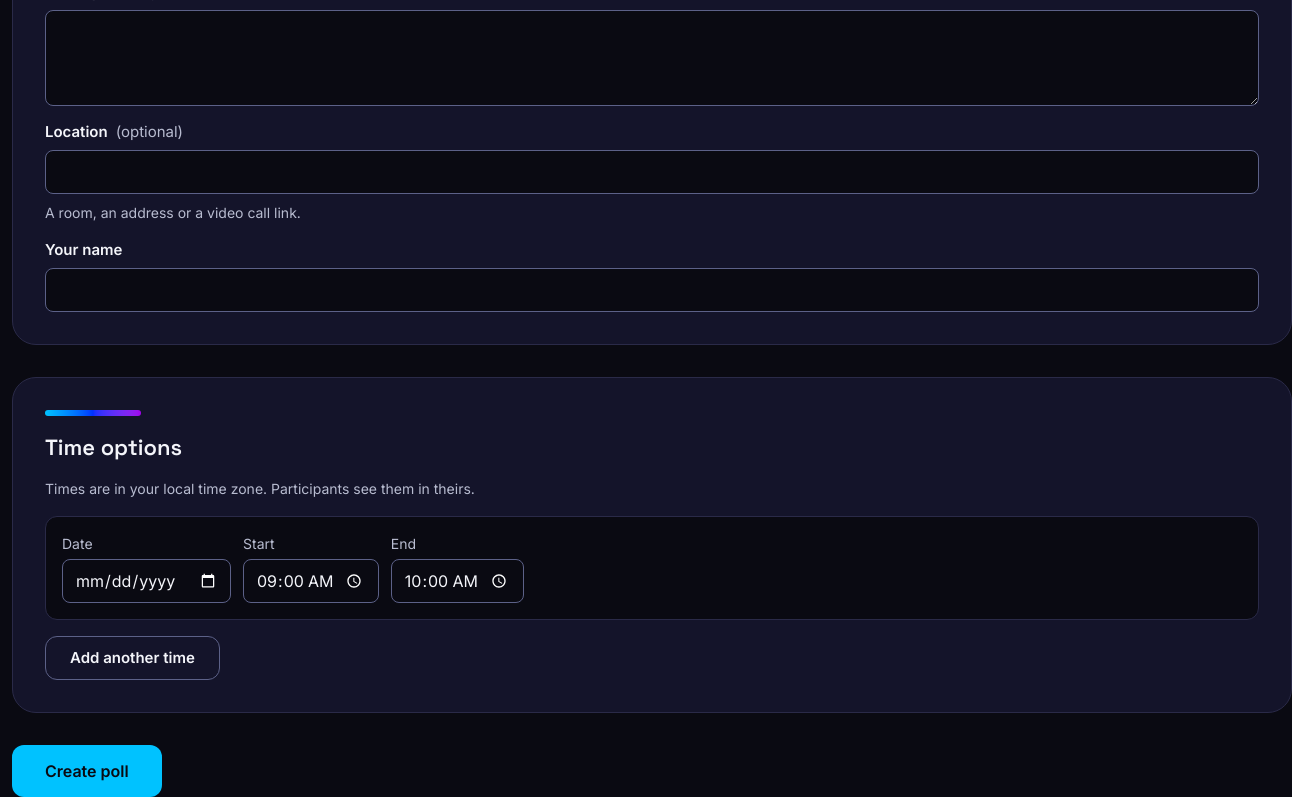
CreatePollForm › shows validation errors without calling the server
This screenshot has width=1292, height=797.
(page scrolled)
Click the button "Create poll": (87, 771) [12,745,162,796]
(page scrolled)
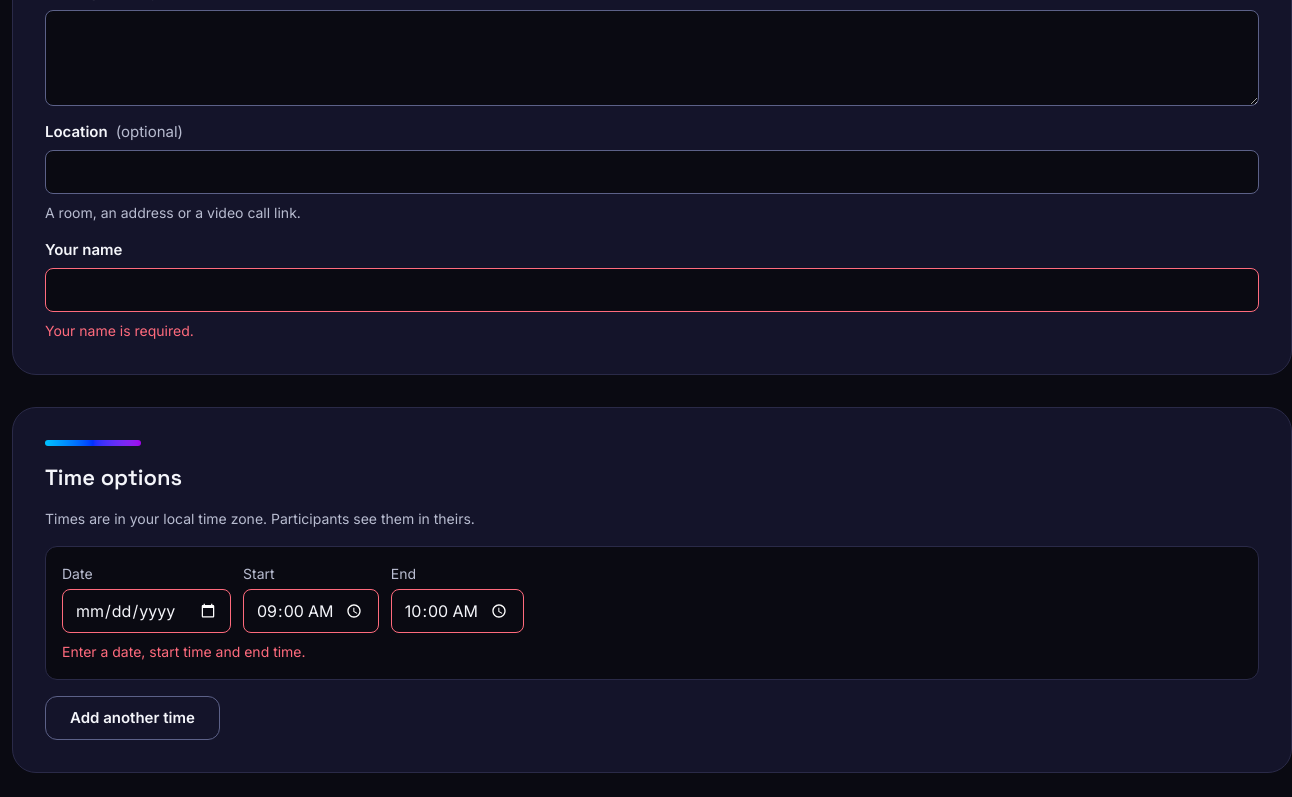
Now the text "Your name is required." is shown, box [45,322,194,339]
Now the text "Enter a date, start time and end time." is shown, box [62,643,306,660]
